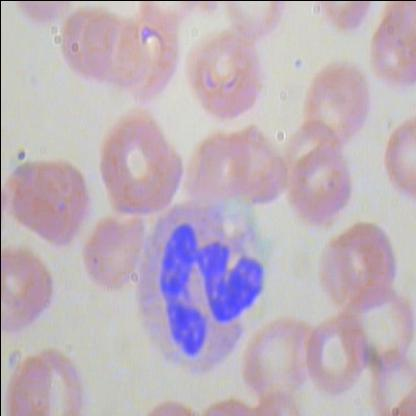RBC: (1, 151, 92, 249), (97, 110, 175, 207), (186, 35, 260, 125), (239, 318, 313, 404), (304, 63, 372, 150), (1, 346, 86, 415), (286, 149, 354, 235), (304, 316, 369, 400), (80, 212, 146, 294), (0, 250, 56, 332)
WBC: (126, 184, 272, 378)
